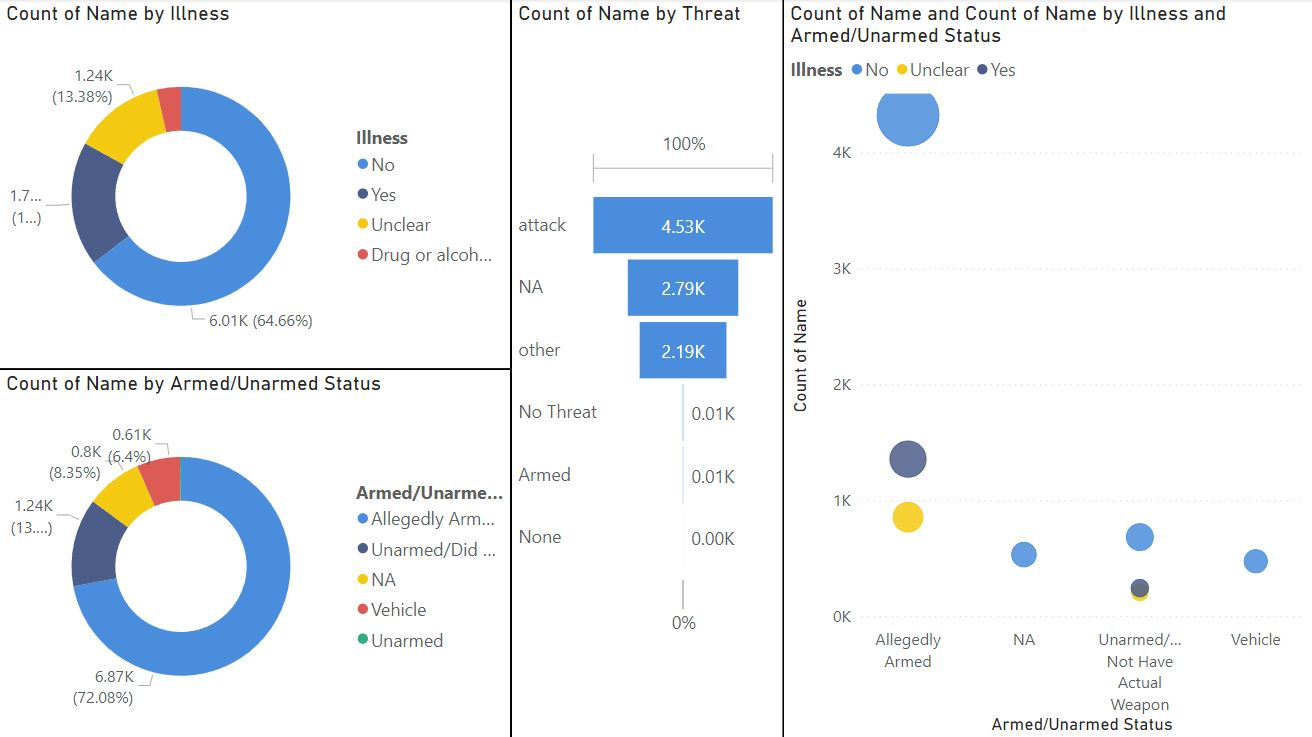

The dashboard page shown, as its layout file describes it:
{"tool":"powerbi","page":{"name":"Page 6","canvas":[1280,720],"ordinal":4},"visuals":[{"type":"donutChart","fields":{"Category":["Data Corrected.Illness"],"Y":["Count(Data Corrected.Name)"]},"box":[0,0,498,359.9],"z":0},{"type":"donutChart","fields":{"Y":["CountNonNull(Data Corrected.Name)"],"Category":["Data Corrected.Armed/Unarmed Status"]},"box":[0,359.9,498,359.9],"z":1},{"type":"funnel","fields":{"Y":["CountNonNull(Data Corrected.Name)"],"Category":["Data Corrected.Threat"]},"box":[498,0,264.6,719.8],"z":2},{"type":"scatterChart","fields":{"Series":["Data Corrected.Illness"],"Y":["Count(Data Corrected.Name)"],"Size":["CountNonNull(Data Corrected.Name)"],"X":["Data Corrected.Armed/Unarmed Status"]},"box":[762.6,0,517.4,719.8],"z":3}]}

Visuals, with their boxes in screenshot pixels (x1, y1, x2, y2), scaled from the page's 1280x720 canvas onto the 1312x737 screenshot:
donutChart - Data Corrected.Illness x Count(Data Corrected.Name): 0, 0, 510, 368
donutChart - CountNonNull(Data Corrected.Name) x Data Corrected.Armed/Unarmed Status: 0, 368, 510, 736
funnel - CountNonNull(Data Corrected.Name) x Data Corrected.Threat: 510, 0, 782, 736
scatterChart - Data Corrected.Illness x Count(Data Corrected.Name): 782, 0, 1311, 736
